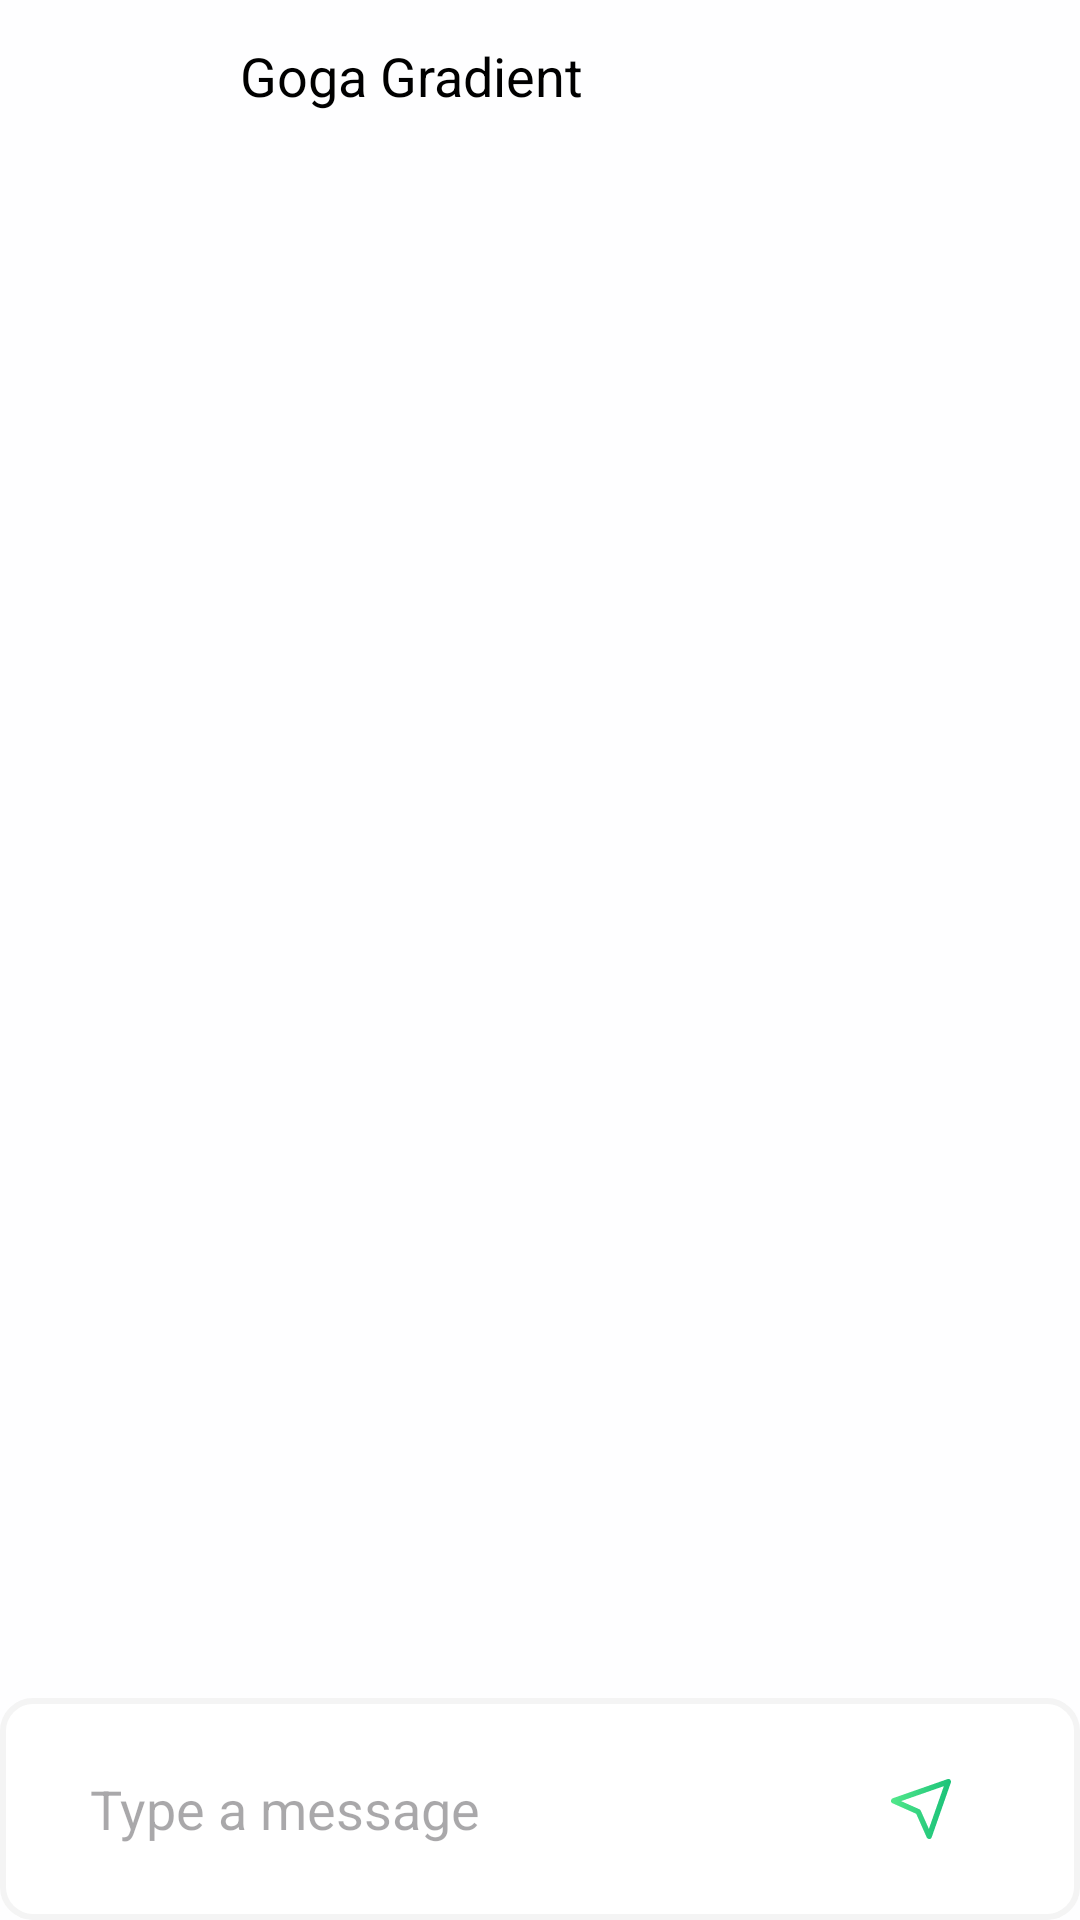

Icon click points for this 1080×1920 phone screenshot, format (x=x, y=y):
send: (x=921, y=1809)
